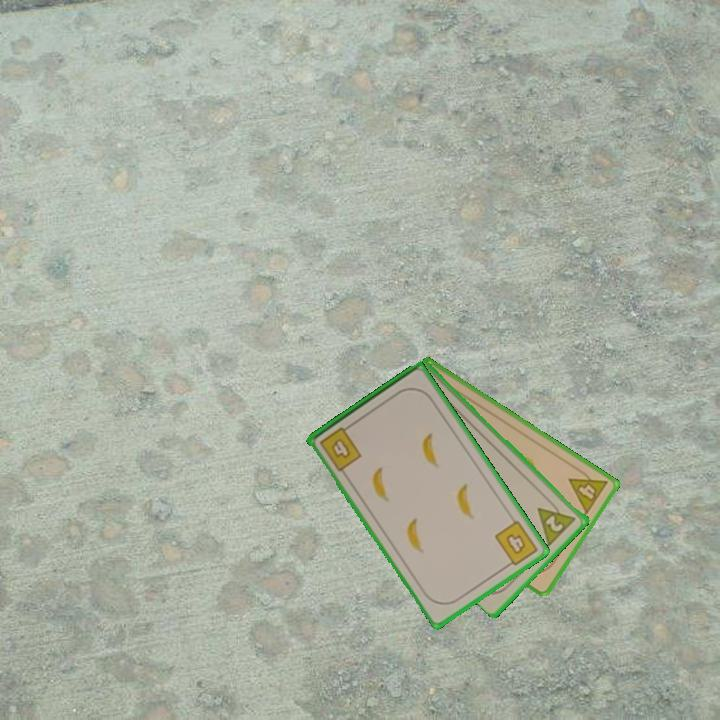2p: (534, 495, 579, 548)
4b: (491, 517, 541, 571), (316, 421, 365, 474)
4p: (565, 463, 610, 517)
